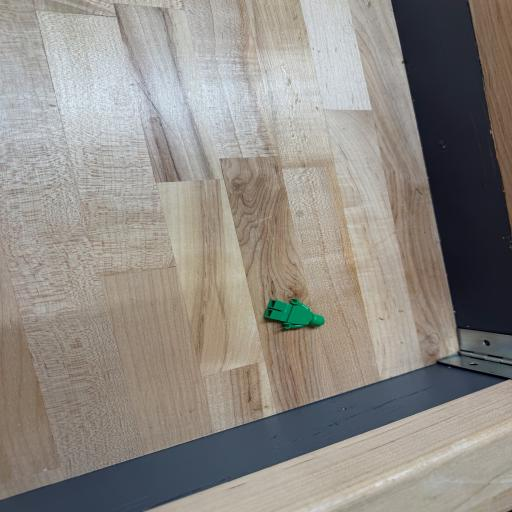Lego-Dude: (264, 298, 325, 329)
